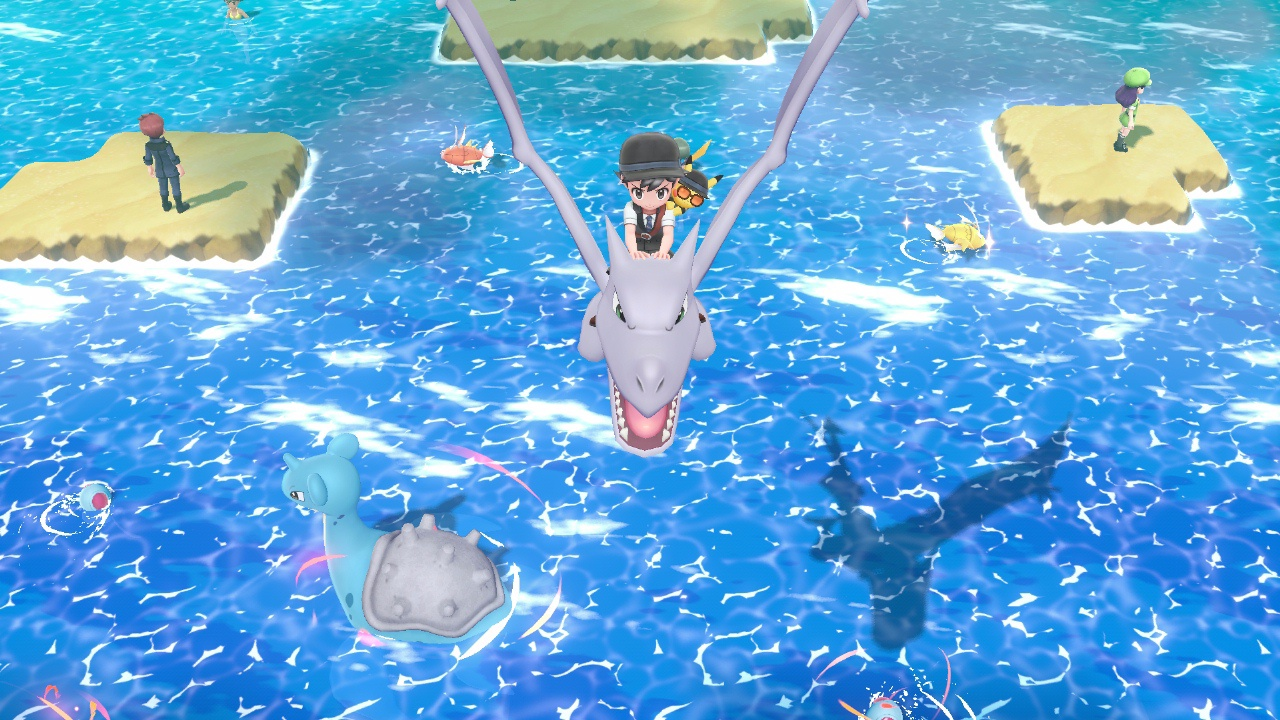Golden: (928, 221, 996, 255)
Red: (439, 132, 496, 170)
